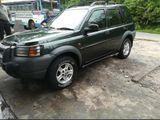car: (2, 4, 144, 92)
